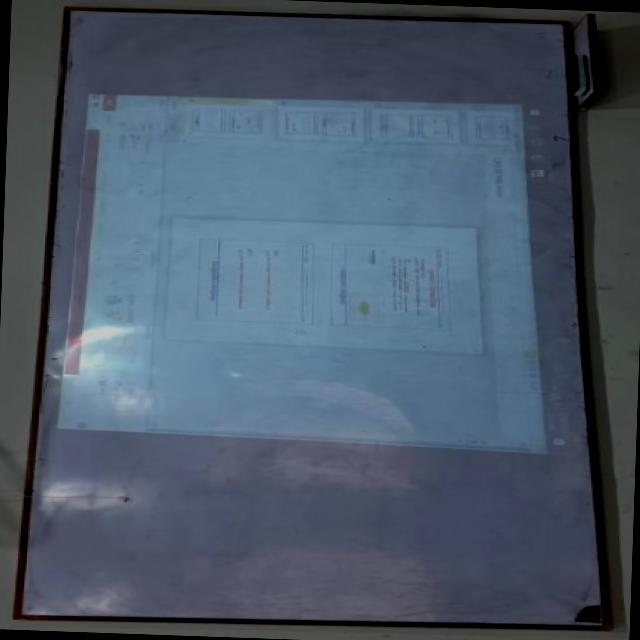Slide: (49, 91, 575, 457)
White-board: (13, 8, 609, 629)
